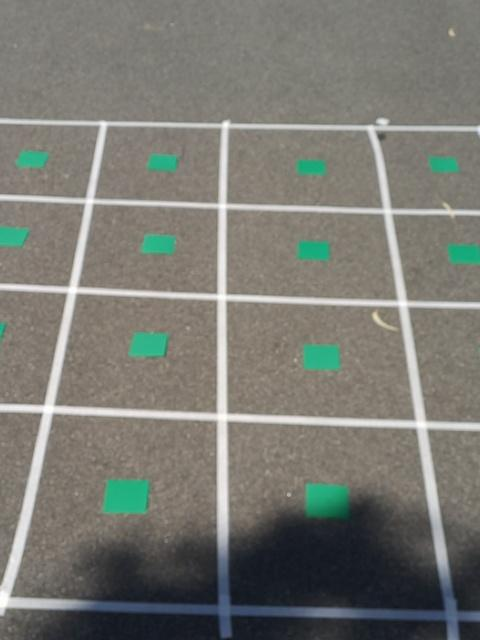weed: (102, 478, 153, 515), (305, 482, 352, 520), (126, 330, 170, 358), (303, 343, 343, 370), (446, 241, 480, 266), (297, 238, 330, 261), (426, 154, 463, 174), (0, 225, 32, 247), (141, 235, 177, 254), (295, 156, 327, 176), (146, 154, 180, 172), (14, 150, 46, 169)
